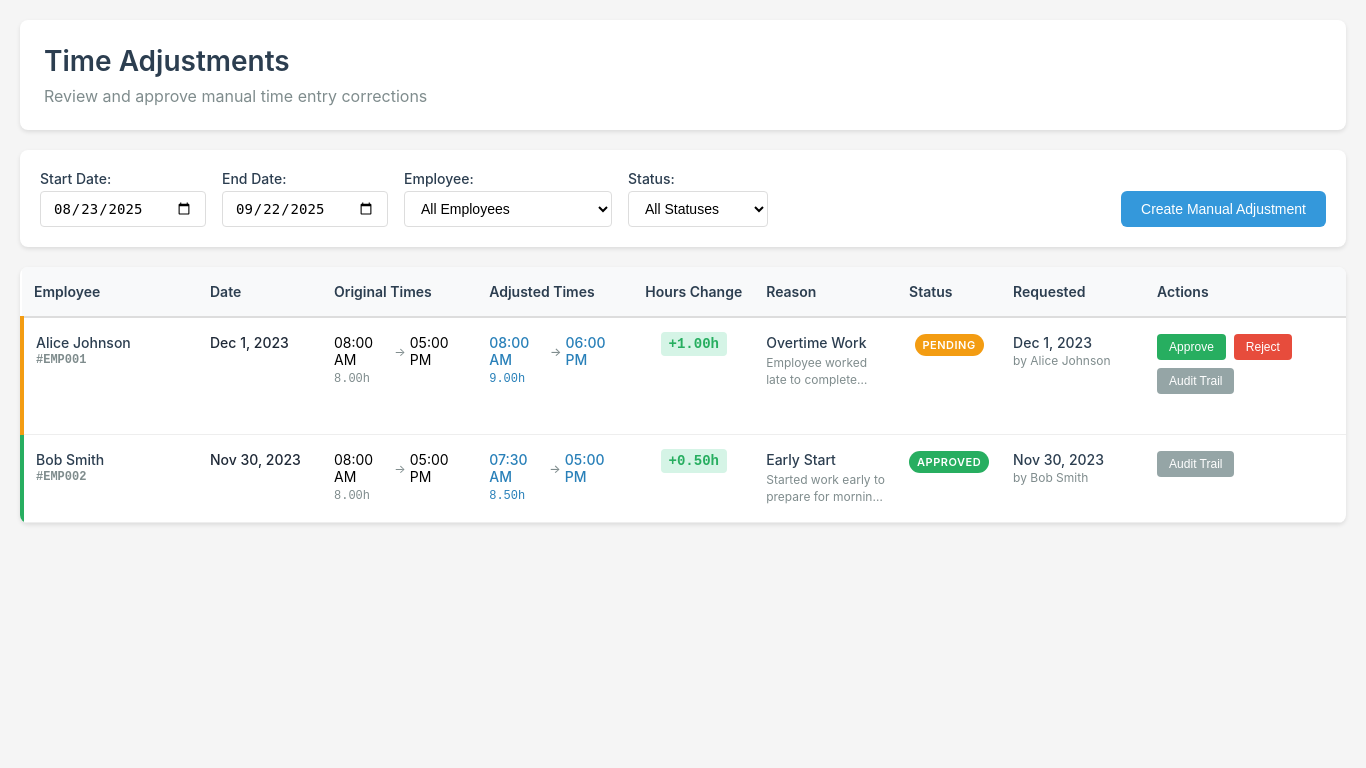
TimeAdjustments Integration › shows audit trail modal
Click the button "Audit Trail" in the row of "9.00h". click: (1196, 381)
box: x1=1157 y1=368 x2=1234 y2=394
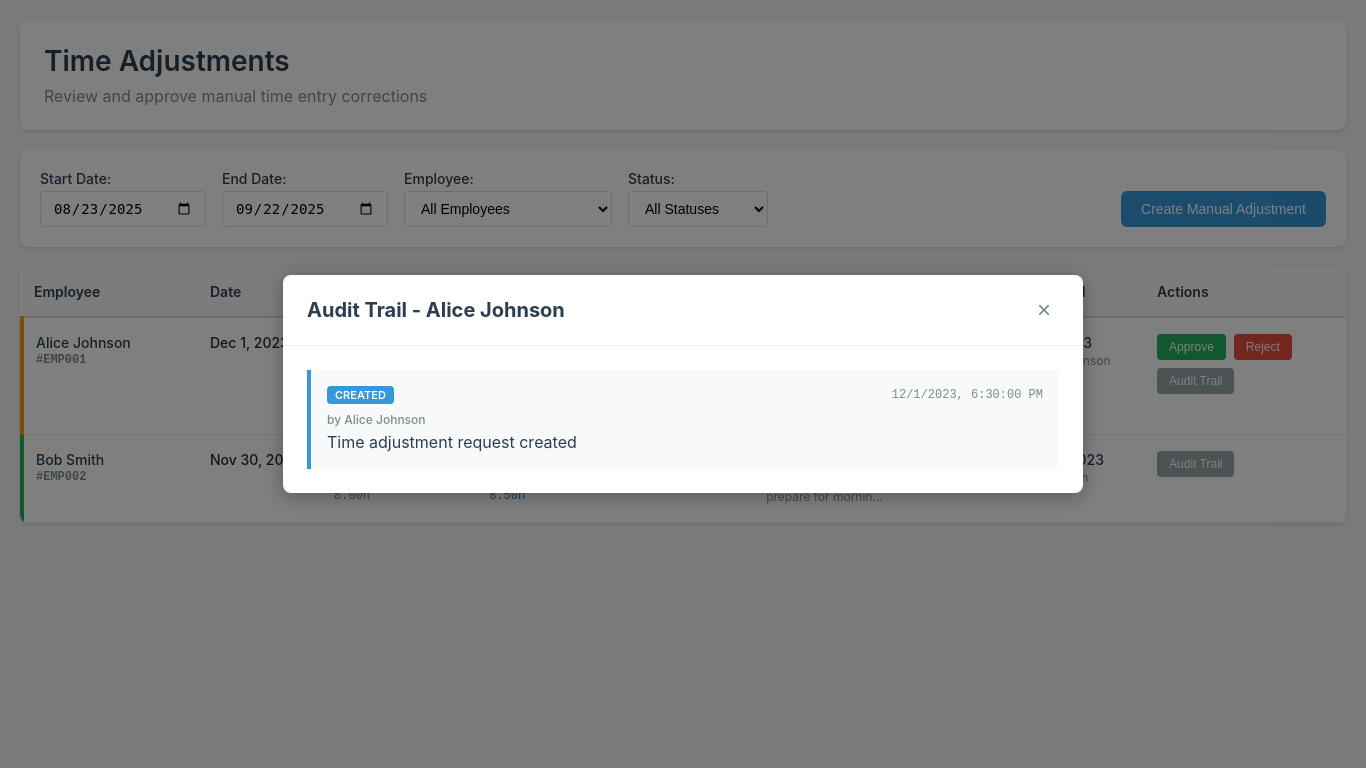
Result: the heading "Audit Trail - Alice Johnson" is shown at x1=307 y1=298 x2=565 y2=322
Result: the text "CREATED" is shown at x1=327 y1=386 x2=394 y2=404
Result: the text "Time adjustment request created" is shown at x1=327 y1=432 x2=577 y2=452
